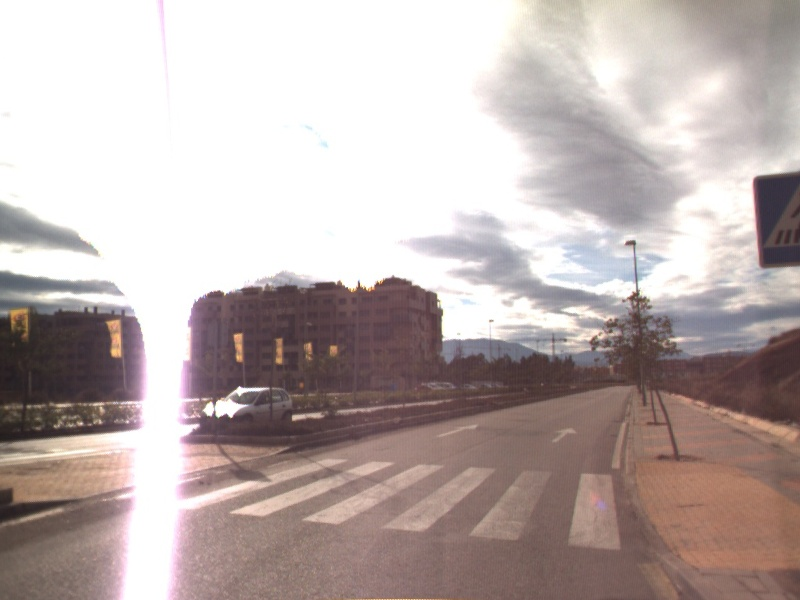STRAIGHT: (434, 422, 481, 439), (550, 425, 579, 444)
